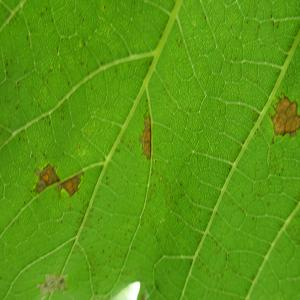Folha: (0, 0, 300, 299)
Fungo: (31, 162, 83, 199), (268, 92, 300, 144), (32, 162, 60, 194), (37, 272, 67, 296), (57, 171, 83, 198), (139, 108, 151, 160)
